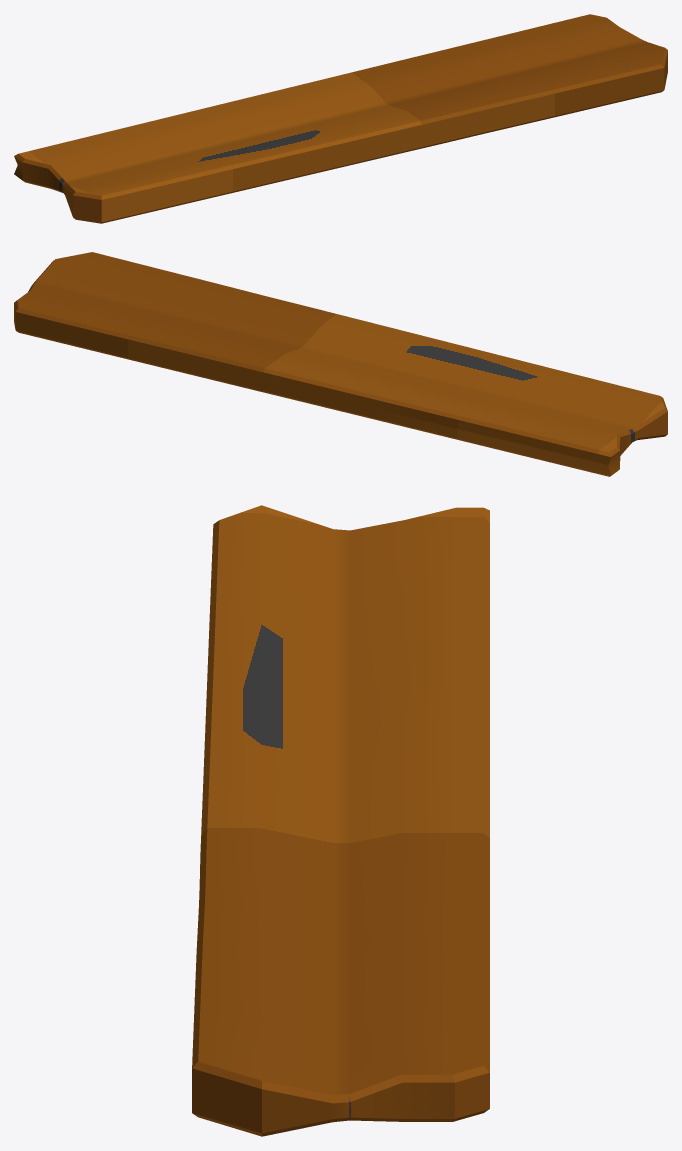
File: SM_WoodPlank4.fbx
The picture shows the model from 3 angles, top to bottom: view 1: azimuth 30°, elevation 25°; view 2: azimuth 150°, elevation 25°; view 3: azimuth 270°, elevation 25°; orthographic projection. The views are drawn at different scales.
Visible parts, largest first — view 1: SM_WoodPlank4; view 2: SM_WoodPlank4; view 3: SM_WoodPlank4.
Boxes of the visible parts, box(x1,y1,x2,y2) form: SM_WoodPlank4: box(14, 14, 667, 223); SM_WoodPlank4: box(14, 252, 667, 476); SM_WoodPlank4: box(192, 505, 489, 1136).
Bounding box in the file's own units: 190 × 8.51 × 41.13.
